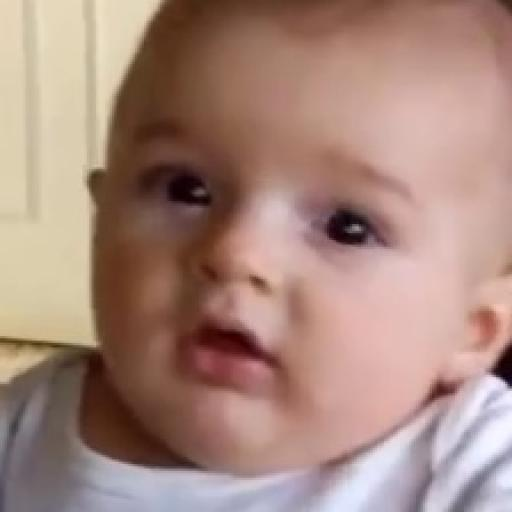Autism: (64, 4, 512, 488)
